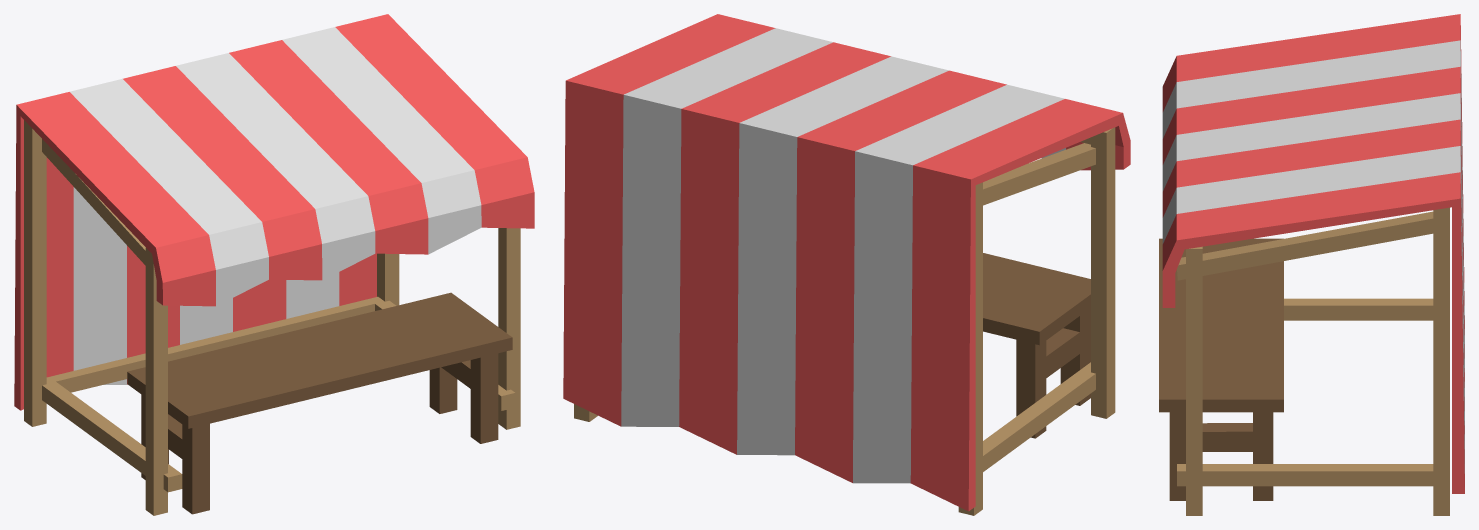
File: Selling Kiosk.fbx
3 renders of one model, left to right at view 1: azimuth 30°, elevation 25°; view 2: azimuth 150°, elevation 25°; view 3: azimuth 270°, elevation 25°, orthographic. The views are drawn at different scales.
Parts seen in each view (by area): view 1: SellingKiosk, Cube.002; view 2: SellingKiosk, Cube.002; view 3: SellingKiosk, Cube.002.
Part boxes in pixels (bbox=[...]): SellingKiosk: bbox=[14, 14, 534, 515]; Cube.002: bbox=[127, 292, 512, 514]; SellingKiosk: bbox=[563, 14, 1130, 515]; Cube.002: bbox=[983, 253, 1090, 438]; SellingKiosk: bbox=[1162, 14, 1464, 515]; Cube.002: bbox=[1159, 238, 1283, 500].
Size of the model in its own units: 265 by 213 by 185.
